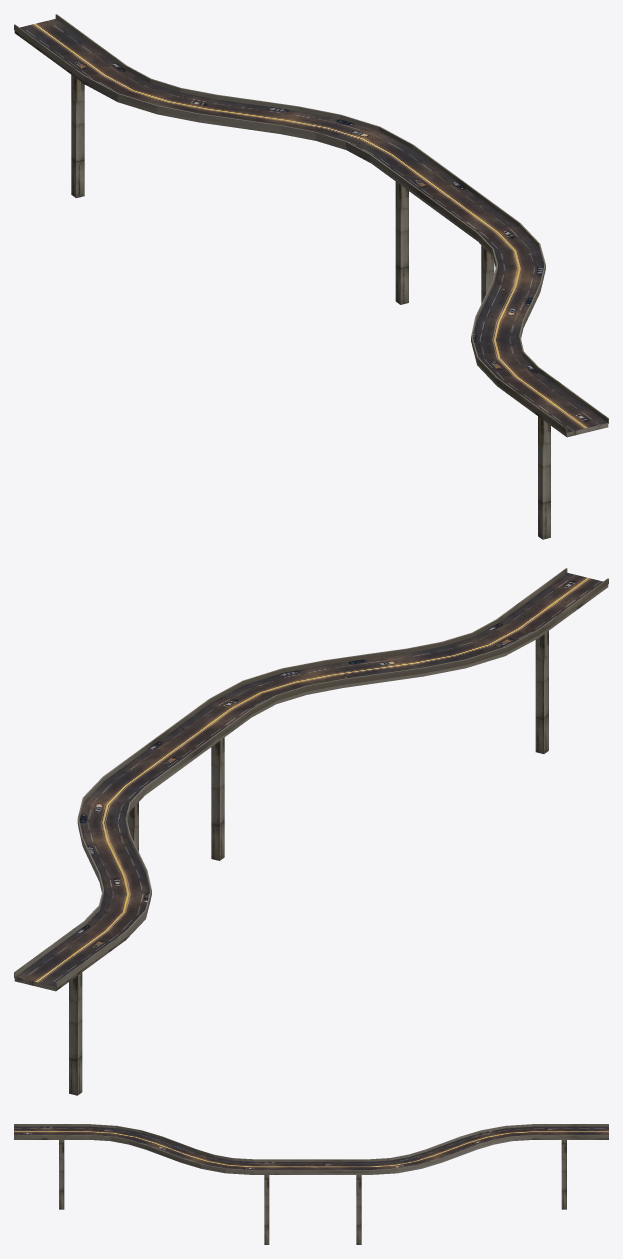
File: CP_Background_Road_400m_02.fbx
The picture shows the model from 3 angles, top to bottom: view 1: azimuth 30°, elevation 25°; view 2: azimuth 150°, elevation 25°; view 3: azimuth 270°, elevation 25°; orthographic projection. The views are drawn at different scales.
Visible parts, largest first — view 1: CP_Background_Road_400m_02; view 2: CP_Background_Road_400m_02; view 3: CP_Background_Road_400m_02.
Boxes of the visible parts, x1,y1,x2,y2 form: CP_Background_Road_400m_02: [14, 14, 608, 539]; CP_Background_Road_400m_02: [14, 568, 608, 1095]; CP_Background_Road_400m_02: [14, 1124, 608, 1244].
Size of the model in its own units: 7392 by 5834 by 40000.
